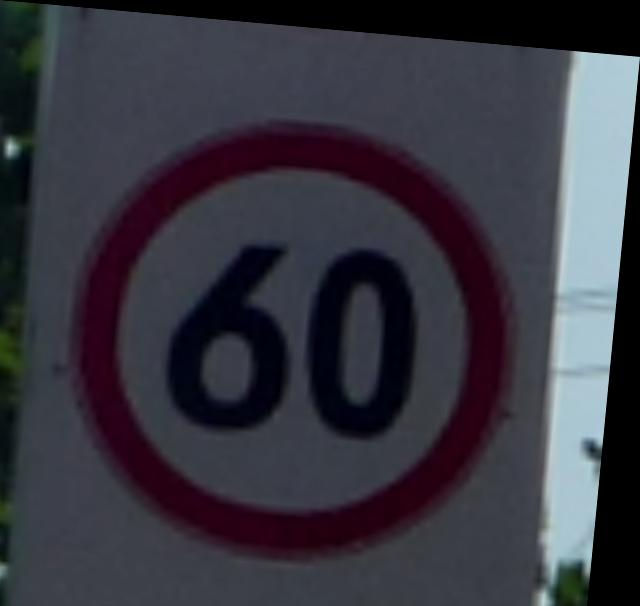limit60: (38, 95, 553, 572)
